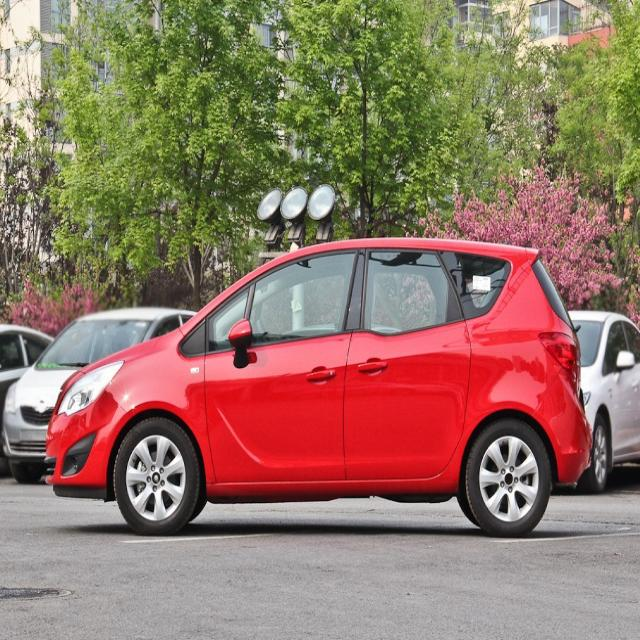back_left_side_light: (532, 317, 586, 404)
door: (356, 244, 474, 489)
front_left_side_door: (188, 228, 364, 495)
front_left_side_light: (44, 348, 134, 432)
front_left_side_mirror: (225, 310, 259, 379)
wheel: (455, 402, 559, 543), (112, 412, 208, 540)
